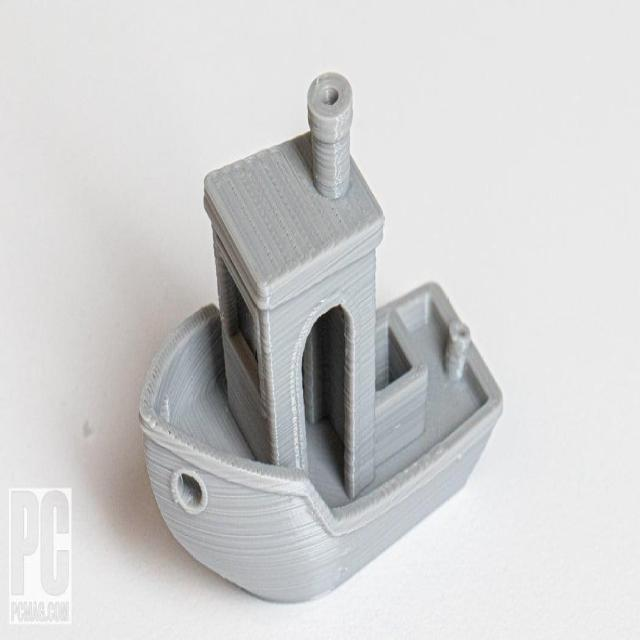Without deffect: (143, 60, 504, 610)
